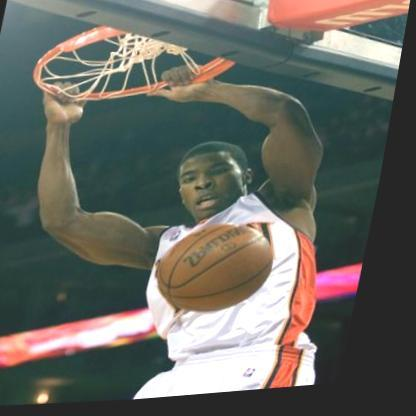basketball: (159, 222, 293, 321)
rim: (29, 12, 246, 113)
